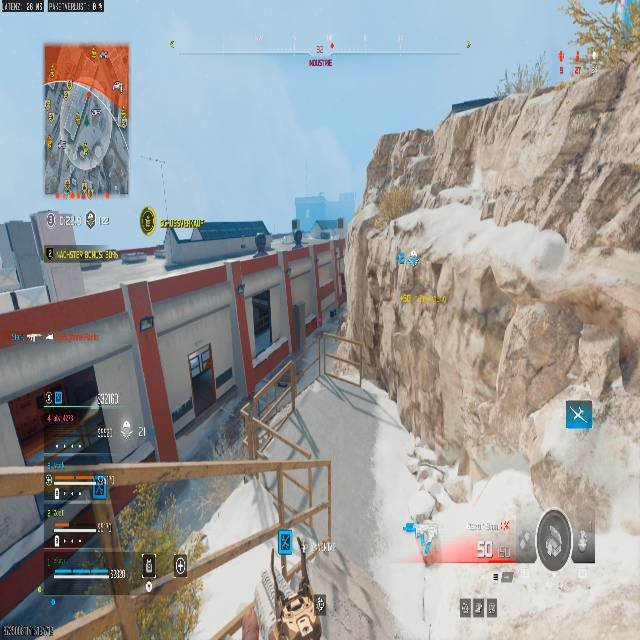player: (168, 341, 238, 445)
